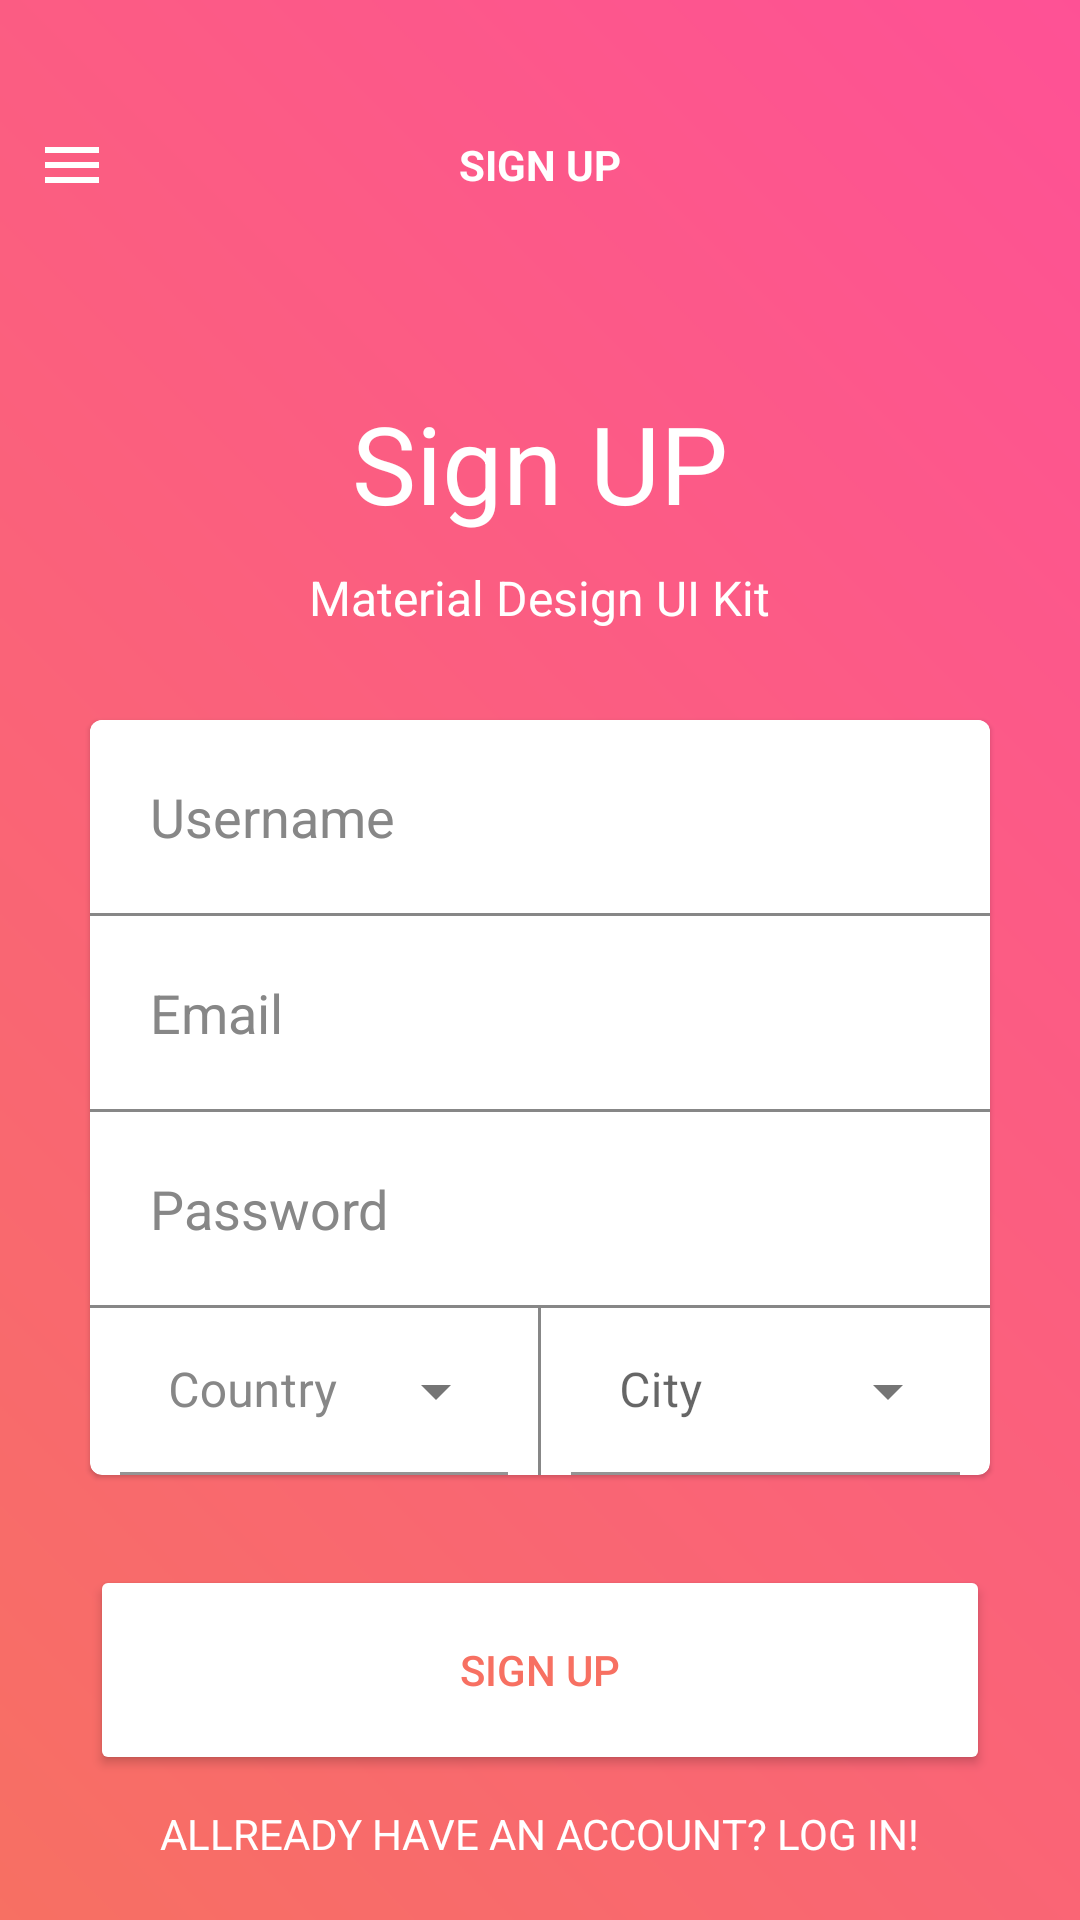

Icons on this 1080 x 1920 Android screen, each with its box as (x1, y1, x2, y2):
menu: (45, 147, 99, 183)
